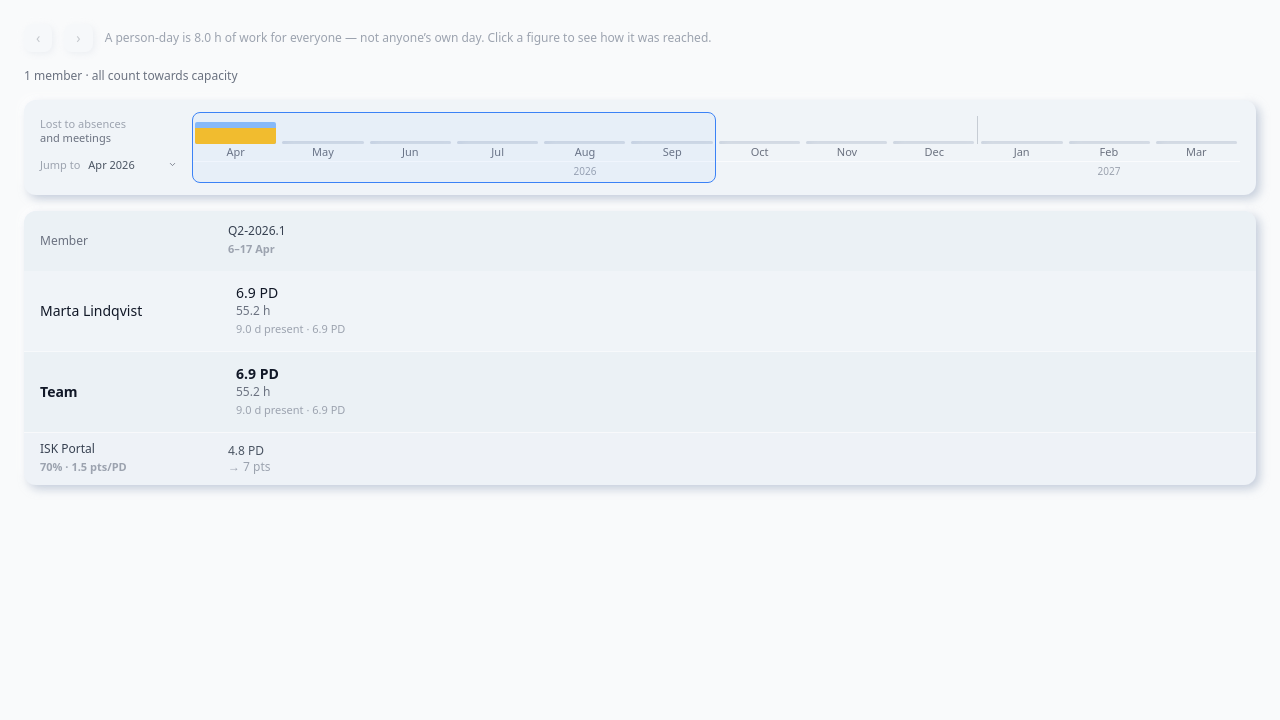
Test: TeamCapacityView › names public holidays apart from leave
The image size is (1280, 720).
Click the button with aria-label "Marta Lindqvist, Q2-2026.1": (282, 328) [228,278,1244,342]
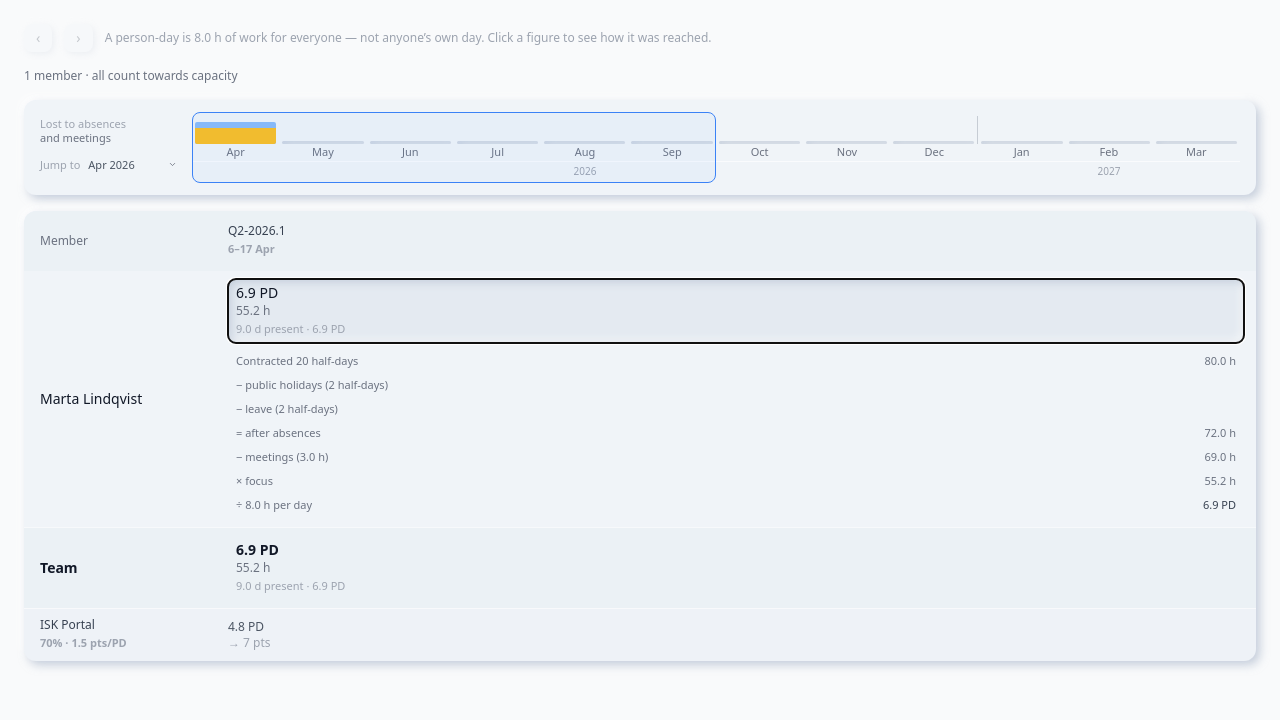
Now the text "− public holidays (2 half-days)" is shown, box [236,374,388,394]
Now the text "− leave (2 half-days)" is shown, box [236,398,338,418]
